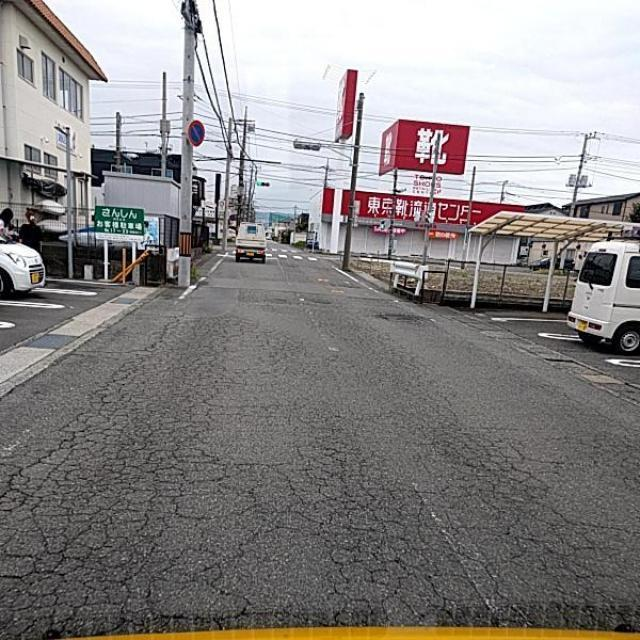Retak Buaya: (9, 332, 223, 637), (437, 452, 597, 600), (312, 436, 442, 604)
